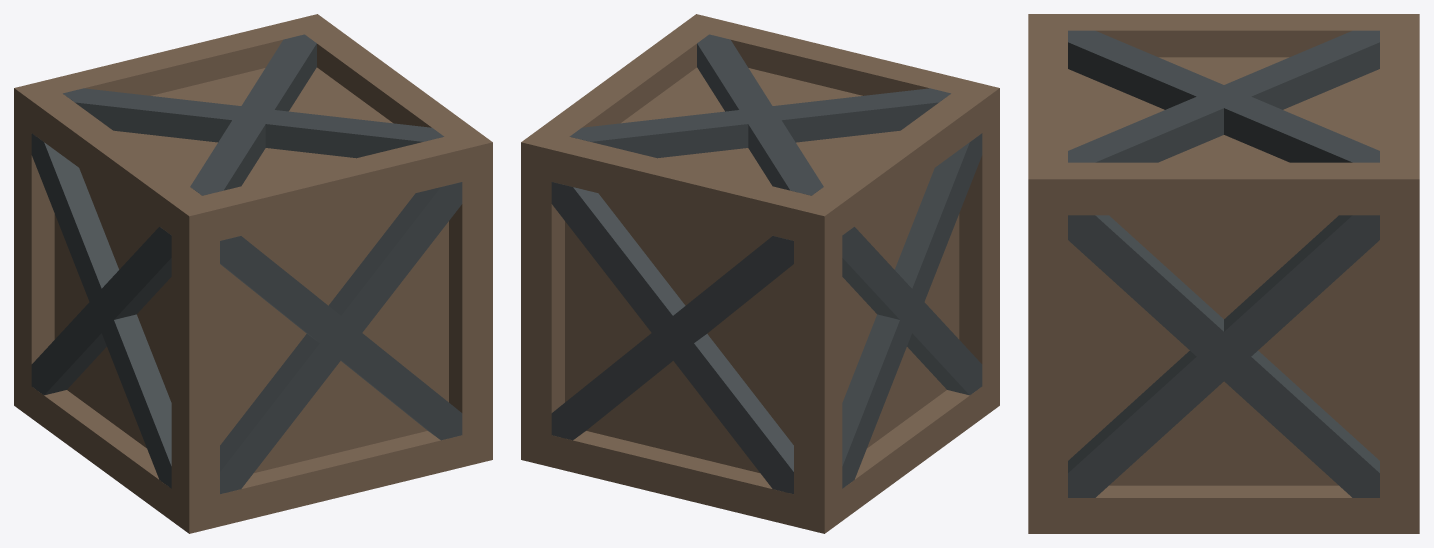
The model's file is Wooden_box.glb.
3 renders of one model, left to right at view 1: azimuth 30°, elevation 25°; view 2: azimuth 150°, elevation 25°; view 3: azimuth 270°, elevation 25°, orthographic. The views are drawn at different scales.
Visible parts, largest first — view 1: Wooden box; view 2: Wooden box; view 3: Wooden box.
Part boxes in pixels (x1,y1,x2,y2): Wooden box: (14,14,492,533); Wooden box: (521,14,999,533); Wooden box: (1028,14,1419,533).
Bounding box in the file's own units: 0.4996 × 0.4997 × 0.4996.
